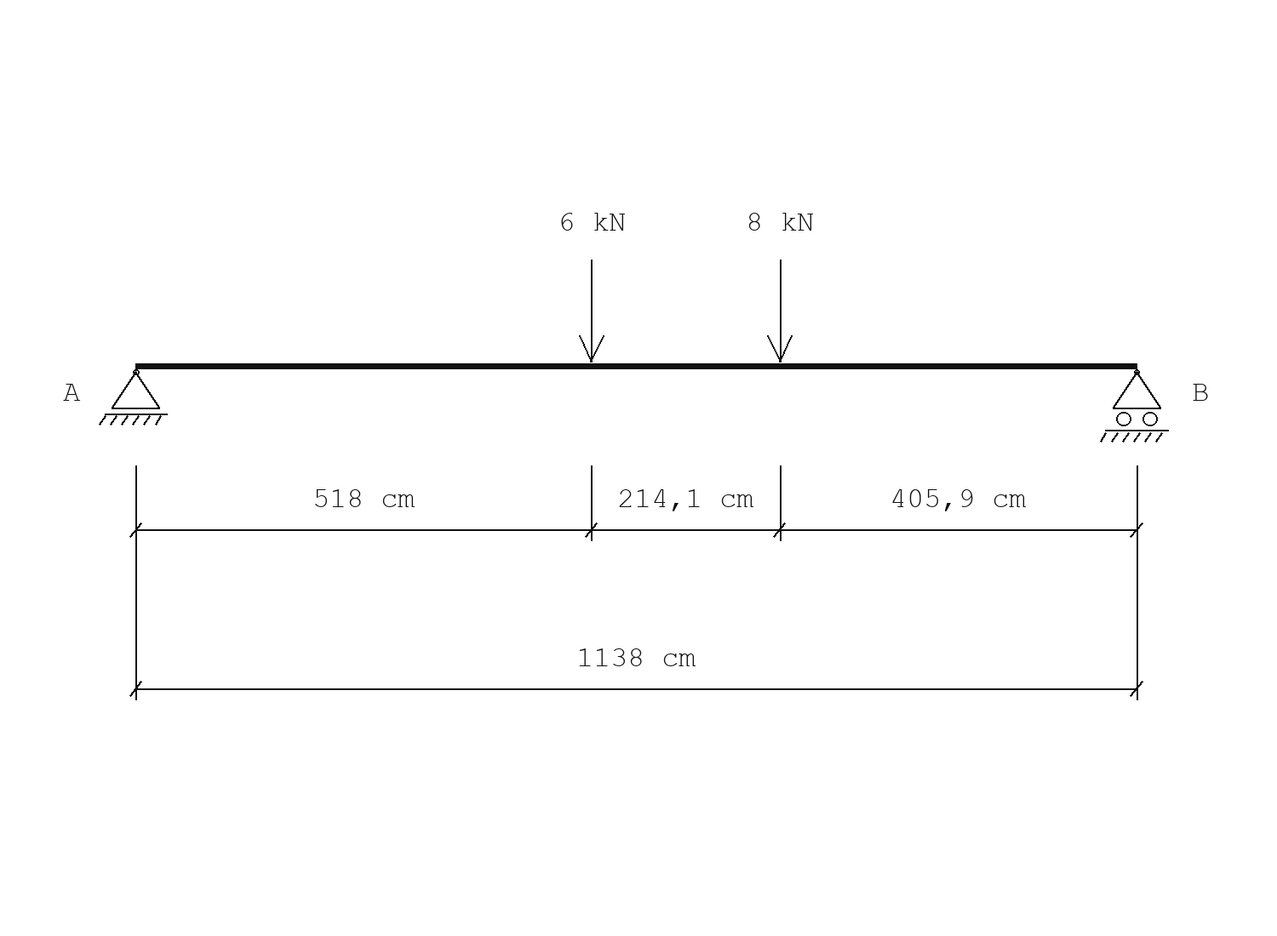pin_support: (99, 369, 168, 425)
point_load: (767, 260, 793, 362), (579, 260, 604, 362)
roller_support: (1100, 369, 1169, 442)
